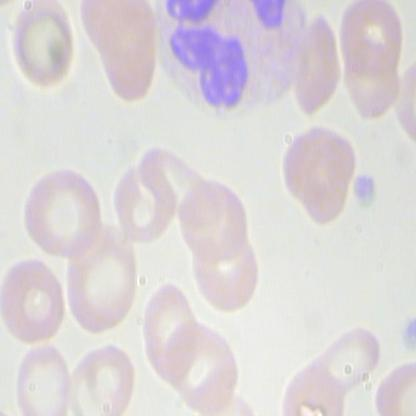Platelets: (349, 172, 381, 216), (395, 311, 415, 357)
RBC: (17, 162, 103, 259), (176, 166, 256, 262), (1, 0, 77, 95), (276, 128, 364, 206), (140, 279, 202, 385), (0, 256, 76, 342), (338, 0, 406, 76), (294, 7, 340, 118)
WBC: (142, 0, 306, 126)
